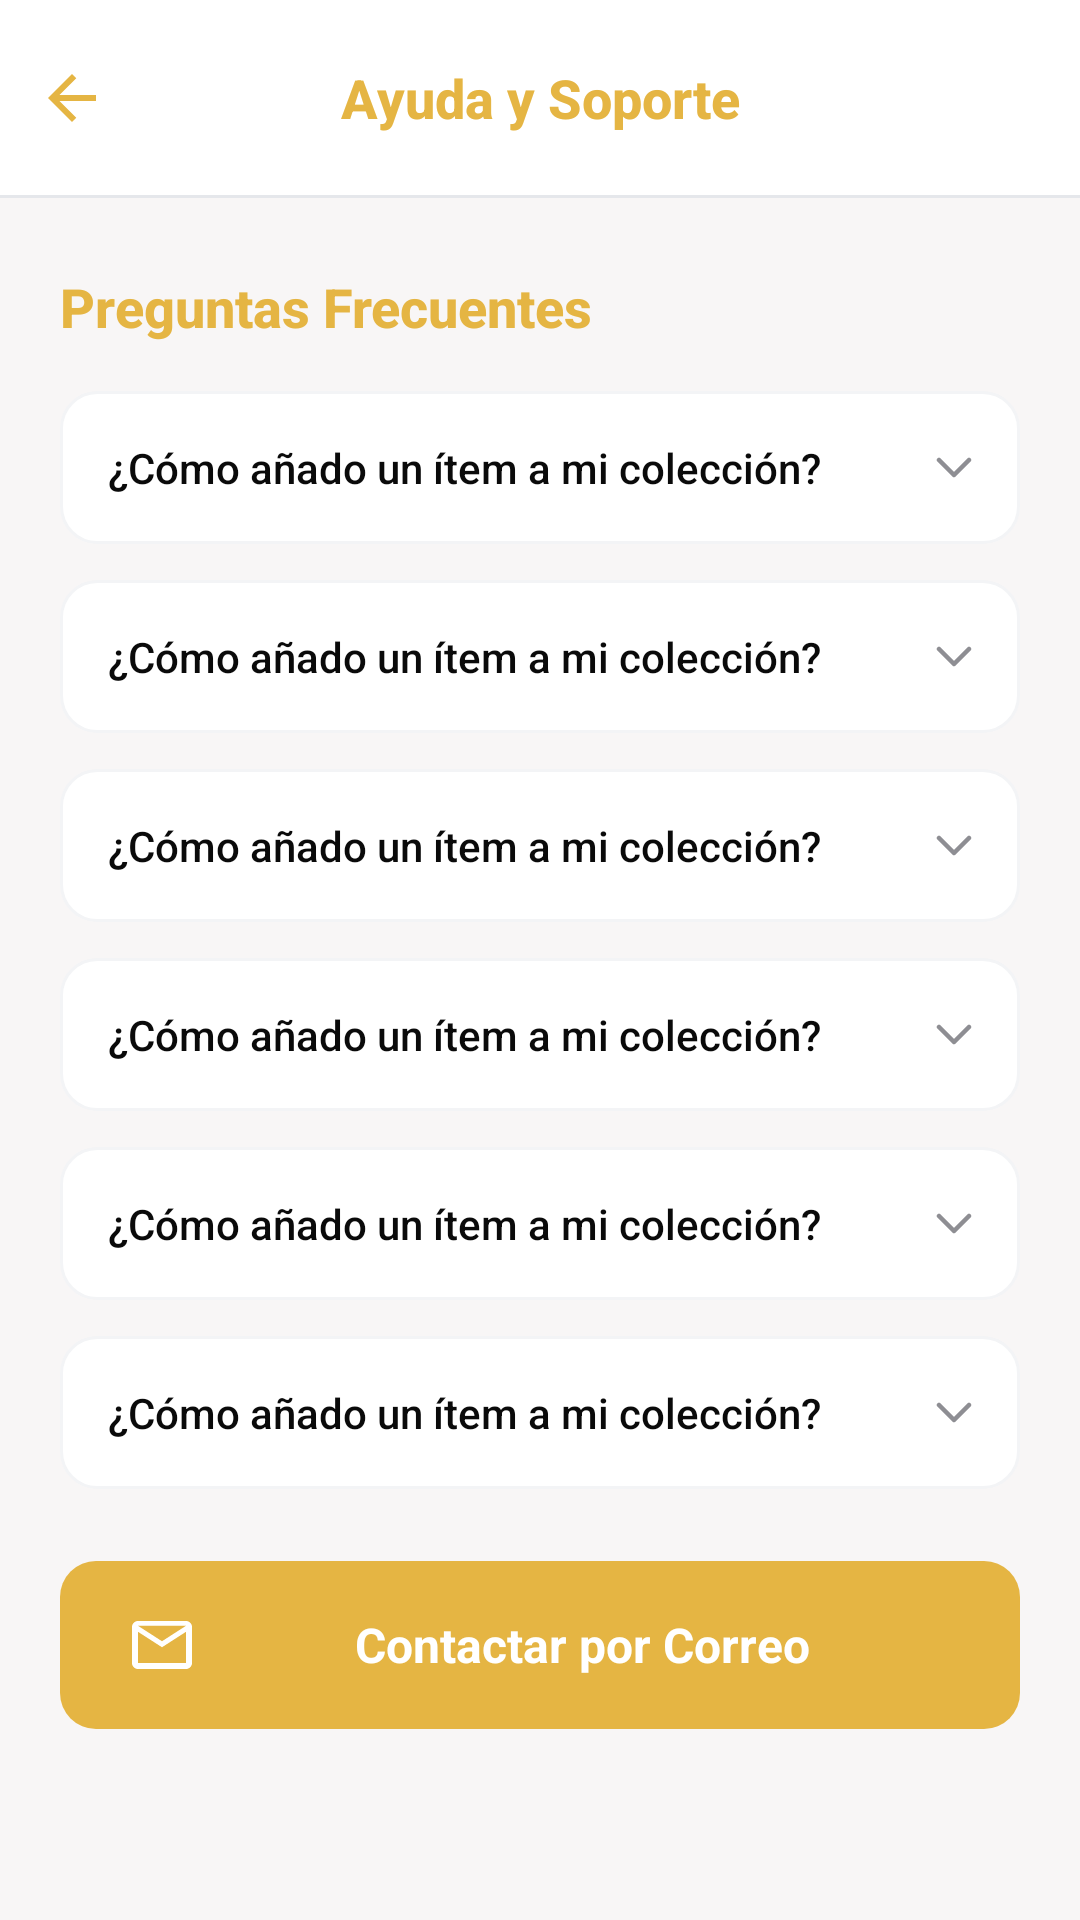

Icons on this 1080×1920 Android screen, each with its box as (x1, y1, x2, y2):
Volver: (48, 74, 96, 122)
